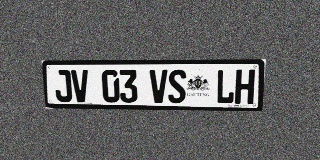0: (101, 70, 120, 103)
3: (119, 70, 137, 103)
H: (235, 69, 255, 104)
J: (54, 70, 72, 102)
L: (216, 69, 235, 104)
S: (168, 70, 186, 103)
V: (71, 70, 90, 102), (150, 70, 167, 103)
